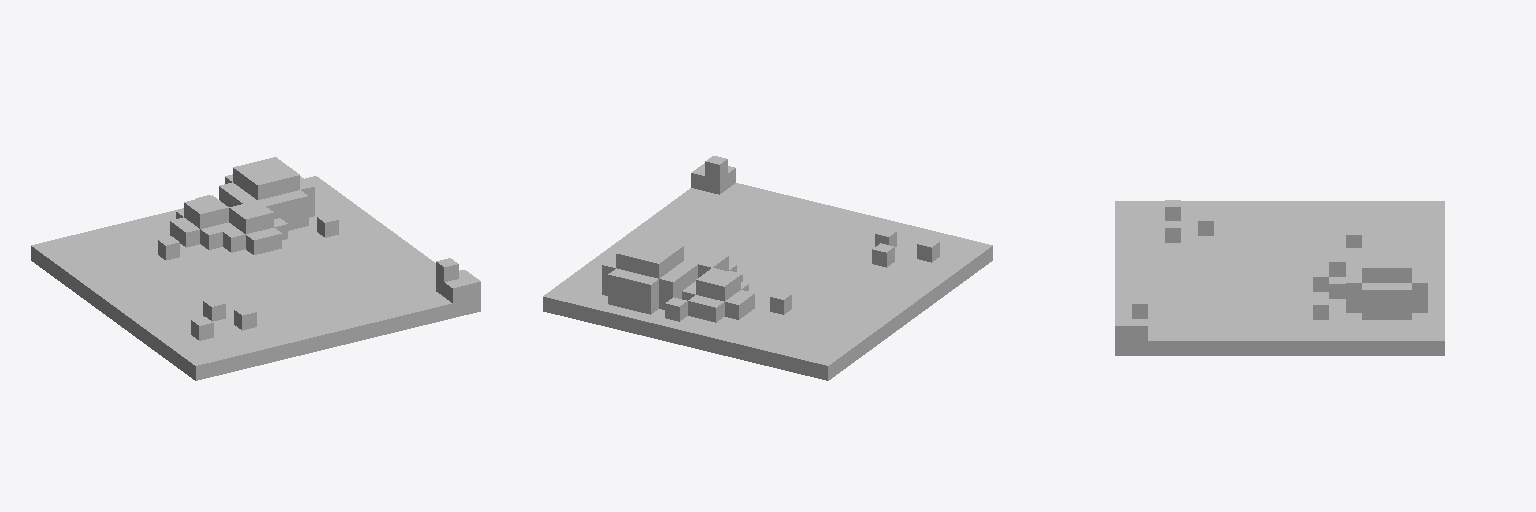
Rendered from Tile Grass.obj.
3 renders of one model, left to right at view 1: azimuth 30°, elevation 25°; view 2: azimuth 150°, elevation 25°; view 3: azimuth 270°, elevation 25°, orthographic.
Bounding box in the file's own units: 20 × 4 × 20.